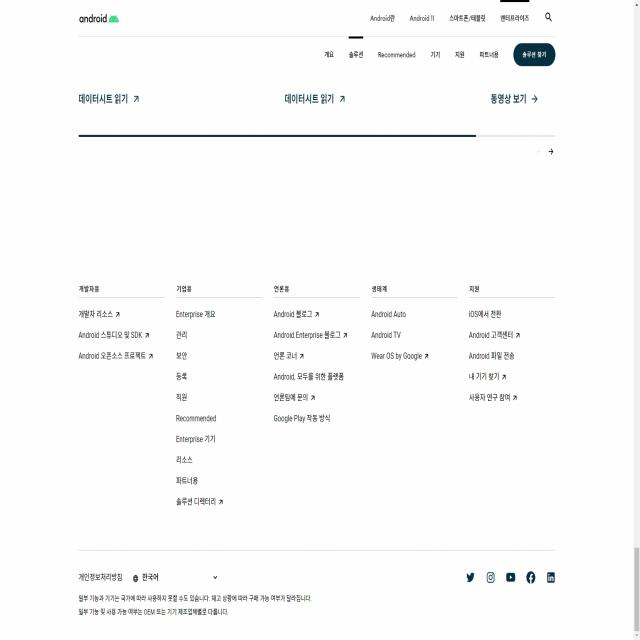menu-bar: (315, 37, 558, 69), (365, 6, 555, 29)
menu-panel: (72, 273, 560, 522)
